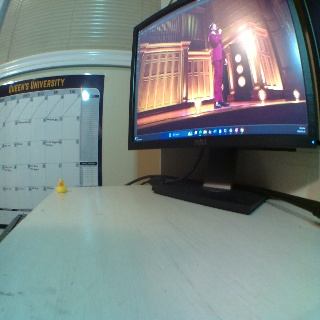duck_regular: (56, 177, 67, 192)
